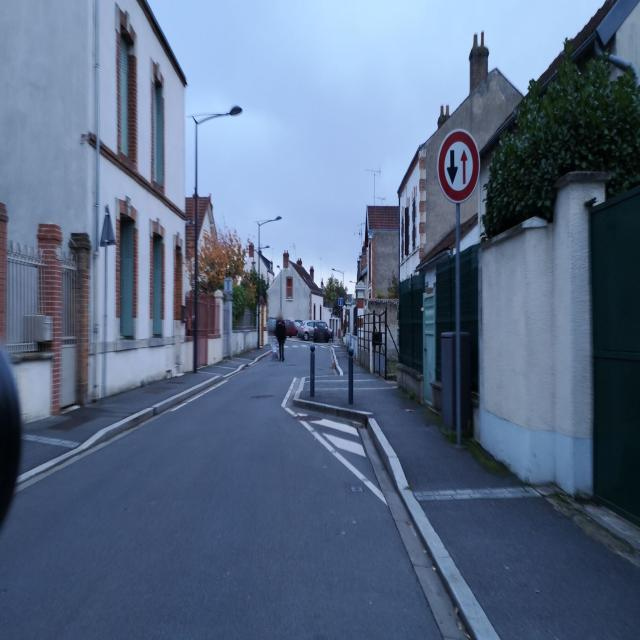car: (313, 318, 332, 342), (297, 318, 315, 340), (283, 316, 299, 338)
